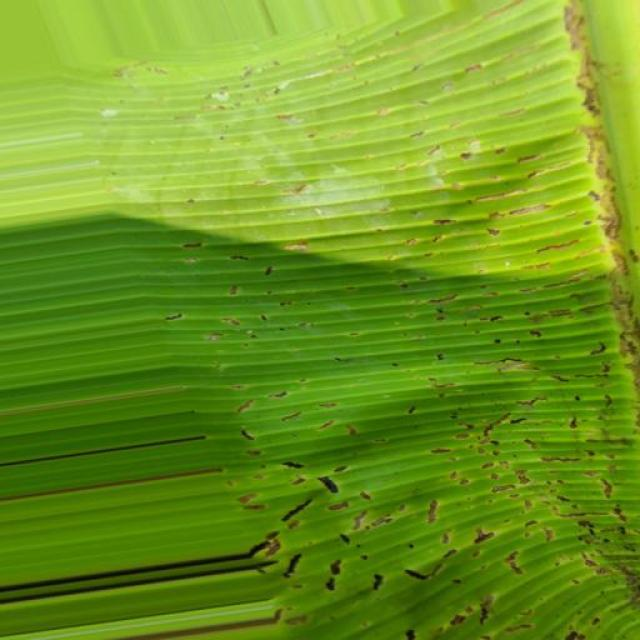Black_rot: (3, 40, 640, 640)
